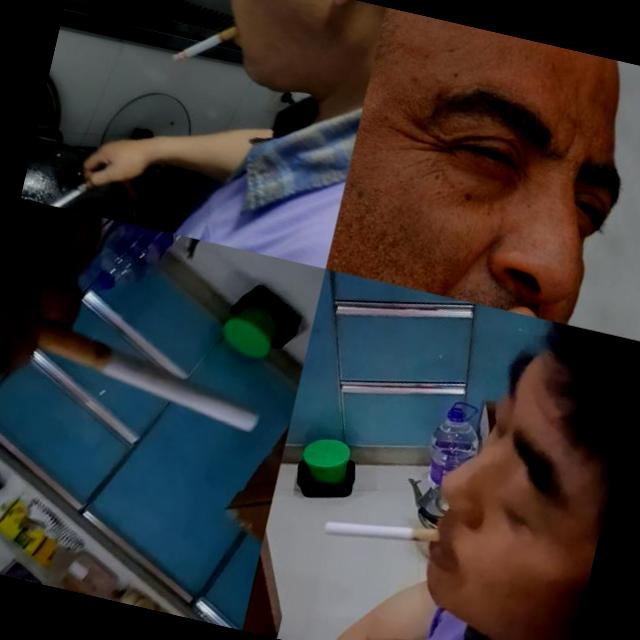smoke: (28, 322, 268, 433), (322, 504, 442, 560), (170, 13, 240, 75)
